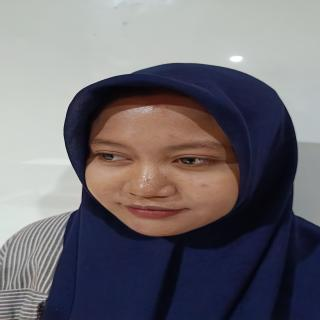Takut: (80, 80, 256, 244)
